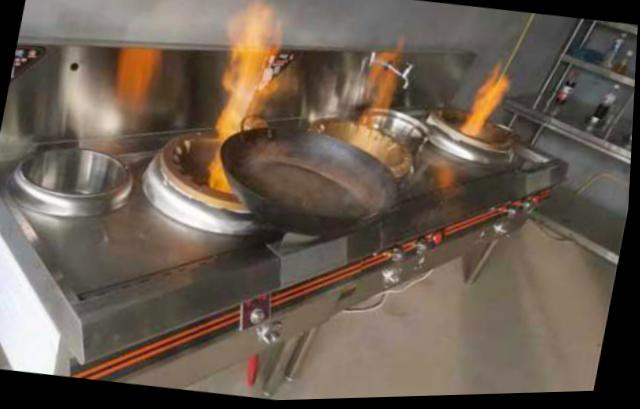fire: (220, 3, 282, 138), (111, 41, 165, 104), (370, 50, 406, 114), (481, 74, 512, 111), (464, 107, 494, 139), (213, 156, 237, 190)
